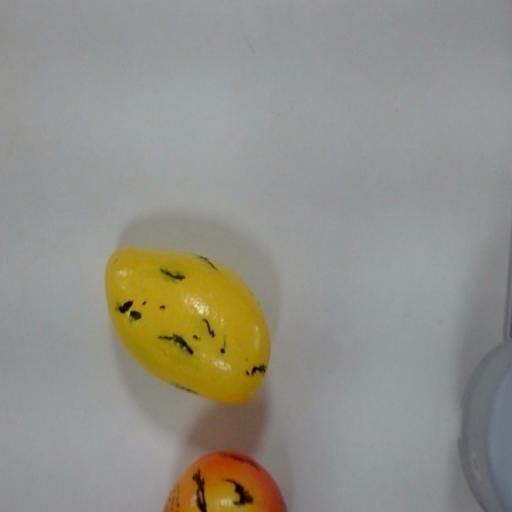Defective: (103, 230, 287, 417), (164, 444, 290, 511)
